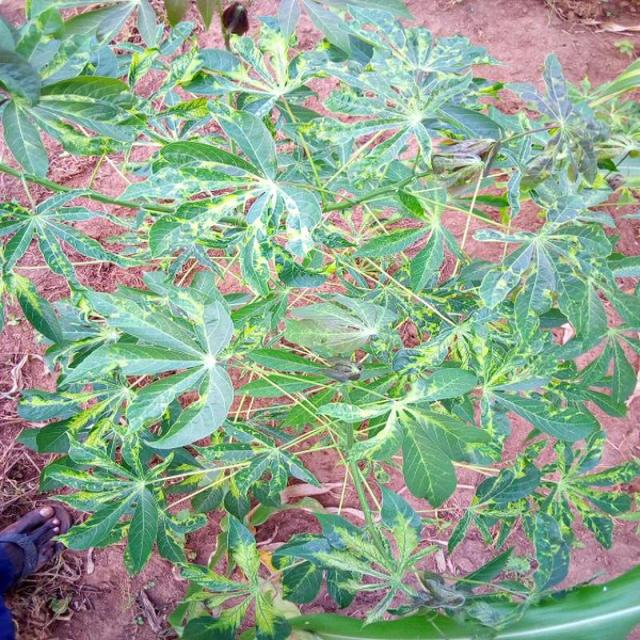Mosaico: (52, 421, 196, 567), (308, 489, 442, 640), (168, 510, 322, 630), (169, 150, 315, 272), (541, 416, 640, 532)
